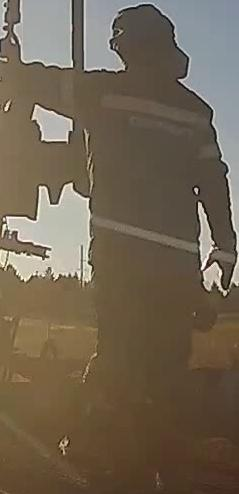gloves: (201, 227, 238, 292)
vest: (62, 66, 202, 290)
